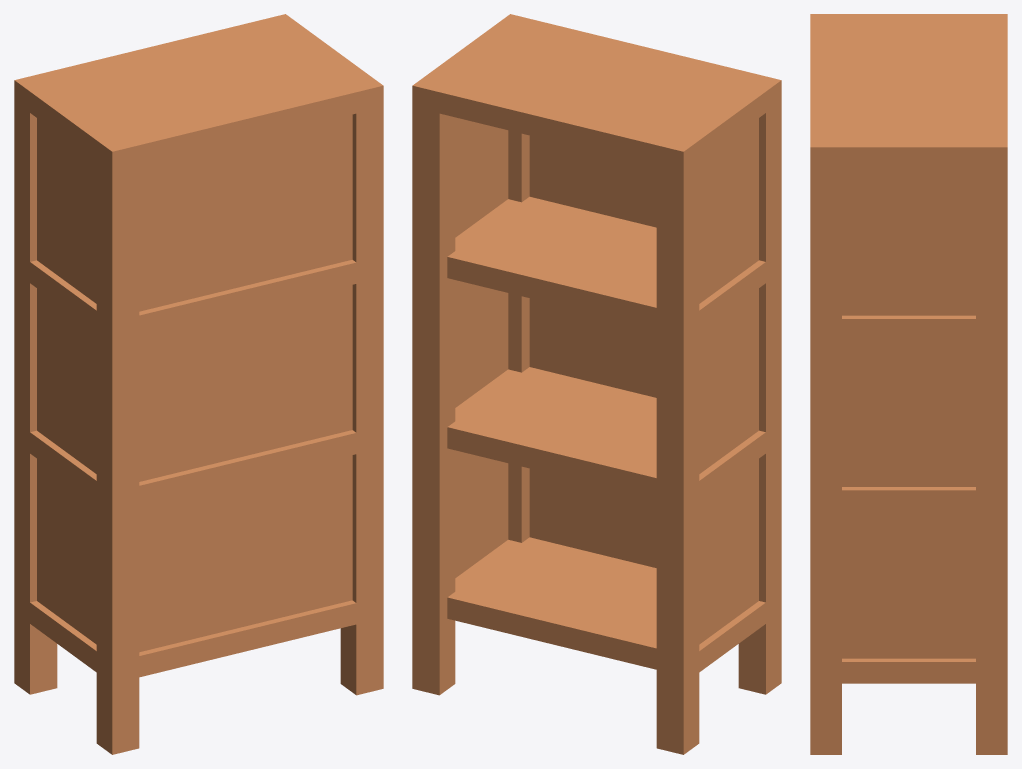
The model's file is bookcaseClosed.obj.
3 renders of one model, left to right at view 1: azimuth 30°, elevation 25°; view 2: azimuth 150°, elevation 25°; view 3: azimuth 270°, elevation 25°, orthographic.
Parts seen in each view (by area): view 1: bookcaseClosed; view 2: bookcaseClosed; view 3: bookcaseClosed.
Part boxes in pixels (box(x1,y1,x2,y2)): bookcaseClosed: box(14, 14, 383, 754); bookcaseClosed: box(412, 14, 781, 754); bookcaseClosed: box(810, 14, 1007, 754).
Bounding box in the file's own units: 0.4 × 0.85 × 0.25.
